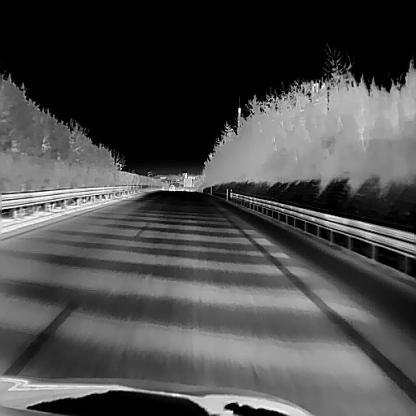car: (168, 183, 175, 190)
